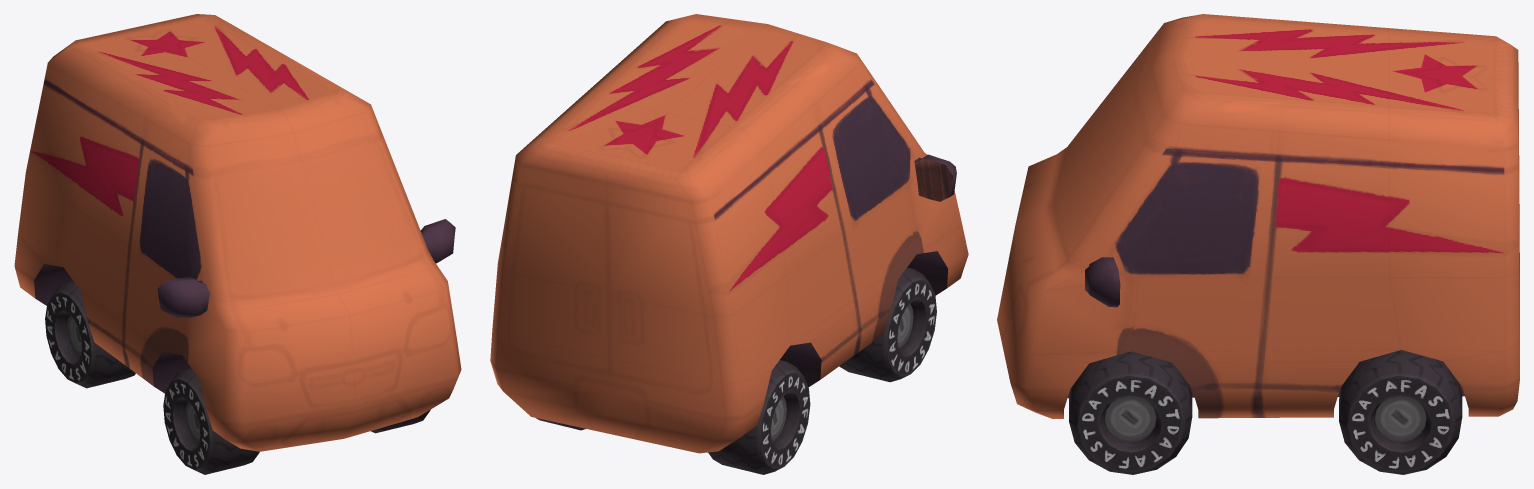
File: TruckGO.fbx
The picture shows the model from 3 angles, left to right: view 1: azimuth 30°, elevation 25°; view 2: azimuth 150°, elevation 25°; view 3: azimuth 270°, elevation 25°; orthographic projection. The views are drawn at different scales.
Parts seen in each view (by area): view 1: Main Body, Front Wheels, Rear Wheels; view 2: Main Body, Rear Wheels, Front Wheels; view 3: Main Body, Rear Wheels, Front Wheels.
Part boxes in pixels (bbox=[...]): Main Body: bbox=[14, 14, 461, 451]; Front Wheels: bbox=[163, 368, 430, 474]; Rear Wheels: bbox=[45, 281, 135, 388]; Main Body: bbox=[490, 14, 968, 453]; Rear Wheels: bbox=[536, 360, 810, 474]; Front Wheels: bbox=[839, 267, 936, 382]; Main Body: bbox=[997, 14, 1519, 418]; Rear Wheels: bbox=[1339, 350, 1462, 474]; Front Wheels: bbox=[1069, 351, 1192, 474].
Size of the model in its own units: 339 by 351 by 457.
1 material, 1 textured.
